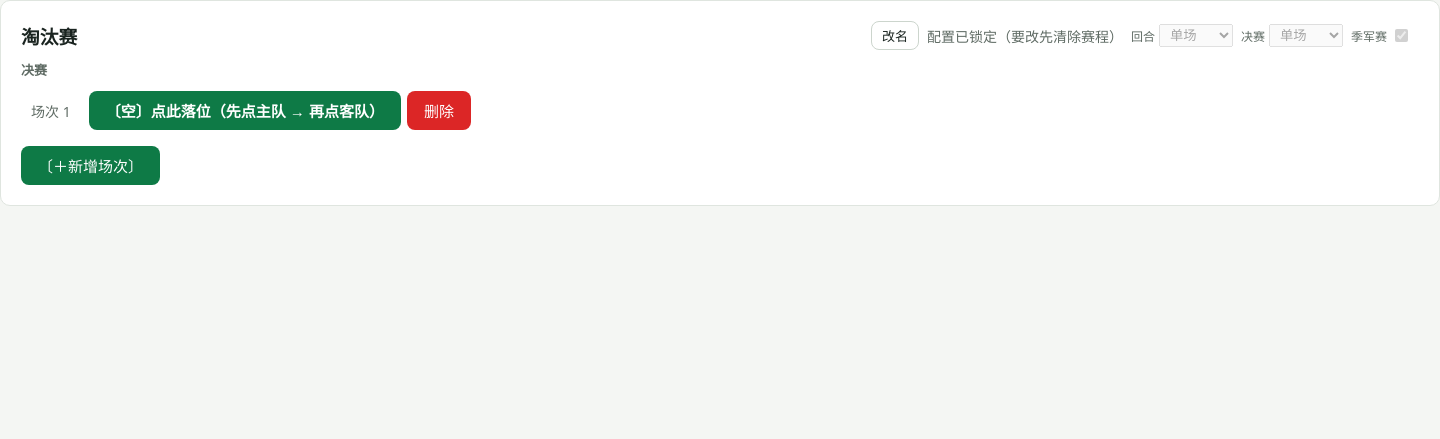
ScheduleTab 淘汰阶段接入 › 移除自动生成按钮、配置锁定，并把 qualifiers 传给落位面板
Click the button "〔空〕点此落位（先点主队 → 再点客队）" at (245, 110), box 89,91 -> 401,130
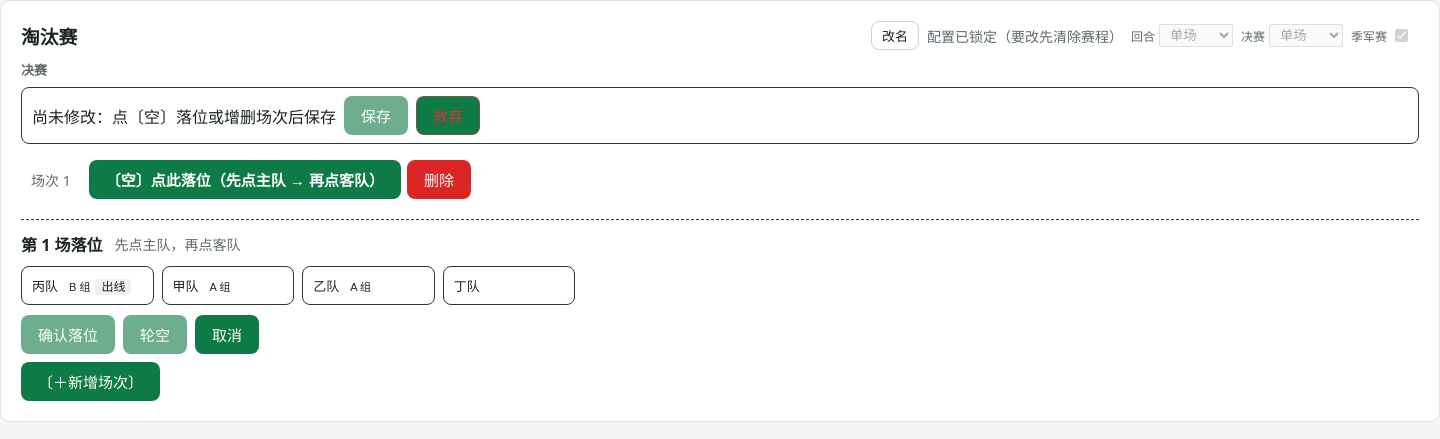
Result: the button "丙队 B 组 出线" is shown at 21,266 -> 154,305
Result: the text with class "badge" reads "出线" at 101,280 -> 125,294
